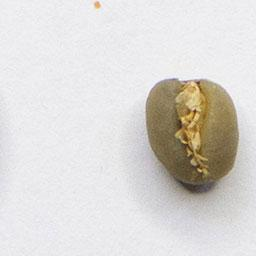peaberry: (142, 75, 242, 189)
